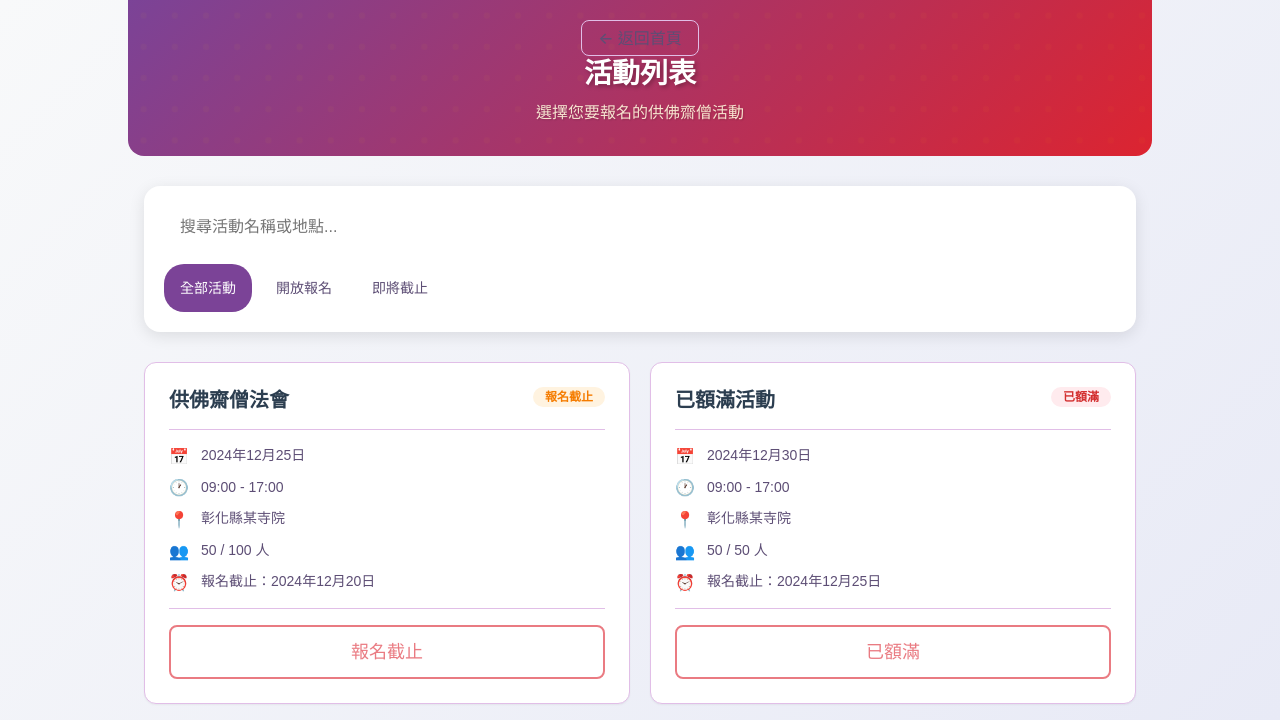
Test: Events Pages › EventsPage › should filter events by search term
Expected: the heading "供佛齋僧法會" is shown, x1=169 y1=389 x2=289 y2=411
Type "供佛" into the field with placeholder "搜尋活動名稱或地點..." at coordinates (640, 227), box x1=164 y1=206 x2=1116 y2=248
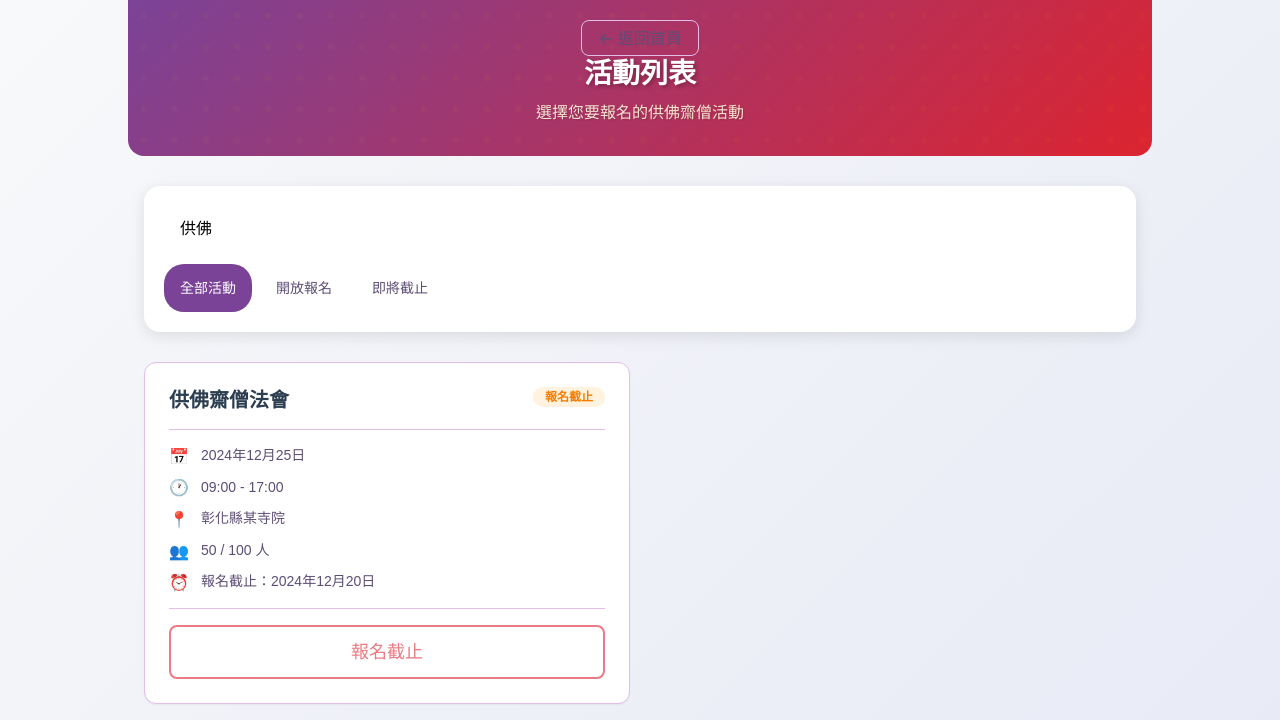
Expected: the heading "供佛齋僧法會" is shown, x1=169 y1=389 x2=289 y2=411
Now the button "已額滿活動" is gone
